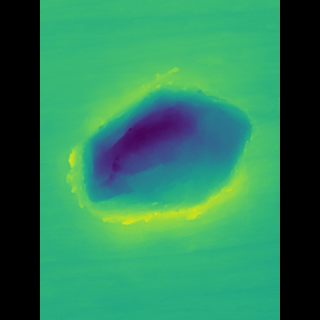Loch: (73, 60, 236, 244)
